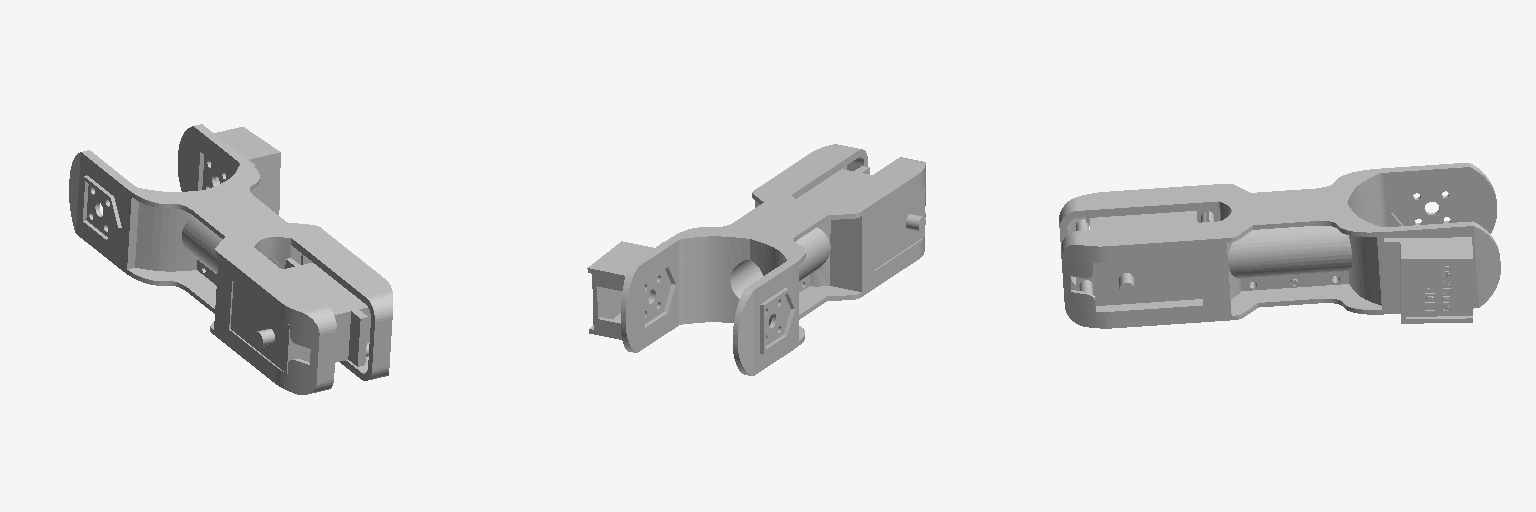
Rendered from middle.obj.
3 views of the same model, side by side, from view 1: azimuth 30°, elevation 25°; view 2: azimuth 150°, elevation 25°; view 3: azimuth 270°, elevation 25° (orthographic).
Visible parts, largest first — view 1: Component11\LOWER11, Component8\LOWER11, Component29\Solid, Component18\Solid11; view 2: Component11\LOWER11, Component8\LOWER11, Component29\Solid, Component18\Solid11, Component20\Solid1; view 3: Component8\LOWER11, Component11\LOWER11, Component29\Solid, Component18\Solid11, Component20\Solid1.
Boxes of the visible parts, <box> form: Component11\LOWER11: <box>69,150,336,394</box>; Component8\LOWER11: <box>178,124,392,380</box>; Component29\Solid: <box>231,258,370,373</box>; Component18\Solid11: <box>214,127,280,214</box>; Component11\LOWER11: <box>733,157,925,375</box>; Component8\LOWER11: <box>621,144,867,352</box>; Component29\Solid: <box>797,166,925,268</box>; Component18\Solid11: <box>587,241,662,339</box>; Component20\Solid1: <box>592,271,621,332</box>; Component8\LOWER11: <box>1061,203,1500,328</box>; Component11\LOWER11: <box>1059,163,1496,290</box>; Component29\Solid: <box>1076,211,1202,305</box>; Component18\Solid11: <box>1384,237,1472,323</box>; Component20\Solid1: <box>1406,263,1472,316</box>.
Size of the model in its own units: 77.29 by 46.84 by 173.